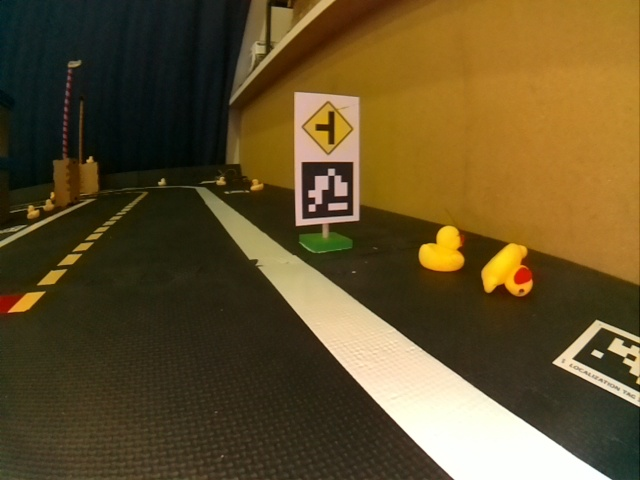Duckie: (486, 243, 532, 297), (418, 227, 465, 270), (27, 206, 39, 219), (251, 180, 261, 190), (216, 176, 225, 185), (86, 156, 95, 165), (158, 179, 167, 187), (45, 201, 51, 210)
Intersection sign: (301, 101, 354, 154)
QR code: (560, 320, 639, 401), (298, 159, 355, 220)
